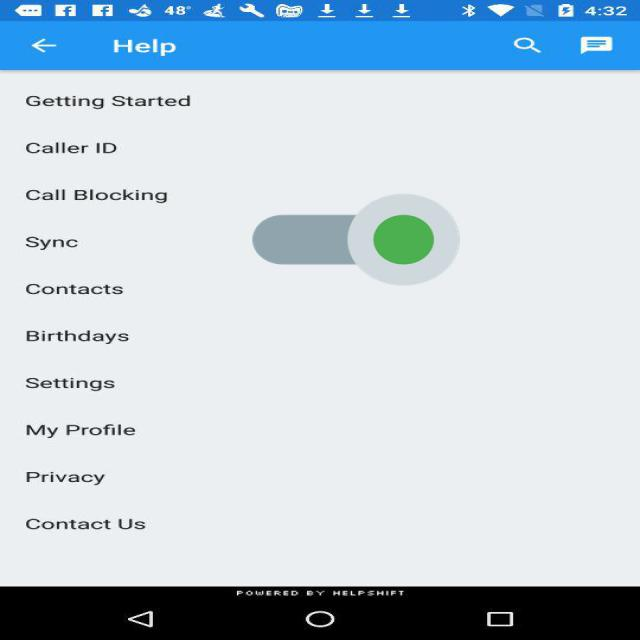social proof: (252, 154, 460, 324)
